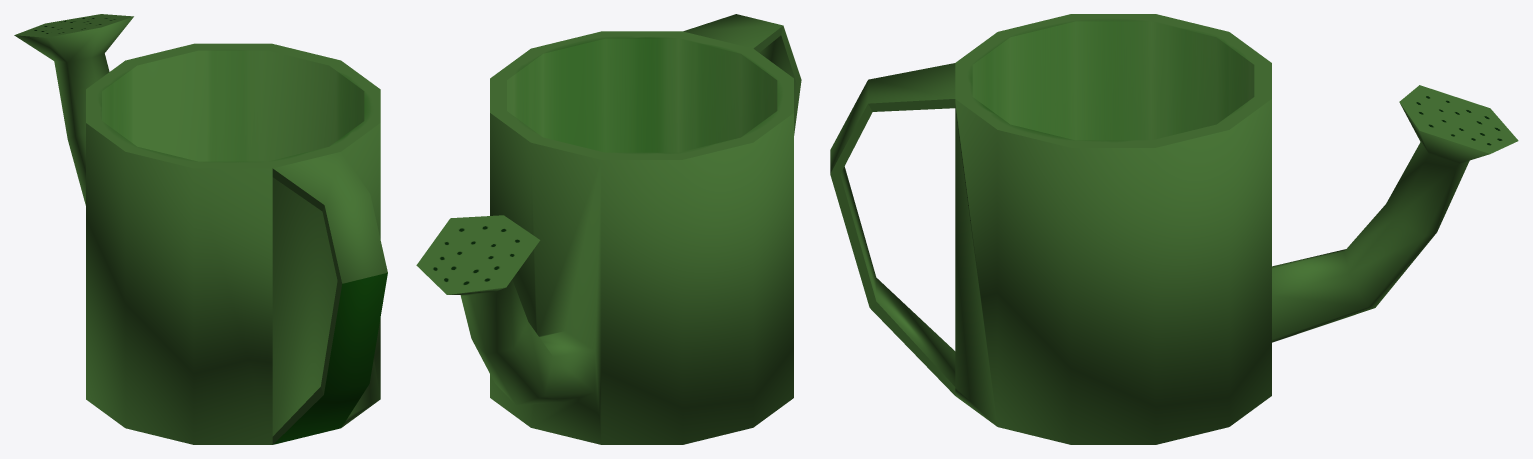
Rendered from Gieter_2.fbx.
The picture shows the model from 3 angles, left to right: view 1: azimuth 30°, elevation 25°; view 2: azimuth 150°, elevation 25°; view 3: azimuth 270°, elevation 25°; orthographic projection. The views are drawn at different scales.
Parts seen in each view (by area): view 1: Cylinder; view 2: Cylinder; view 3: Cylinder.
Part boxes in pixels (x1,y1,x2,y2): Cylinder: (14,14,387,444); Cylinder: (416,14,801,444); Cylinder: (830,14,1518,444).
Bounding box in the file's own units: 193 × 200 × 420.
1 material, 1 textured.
